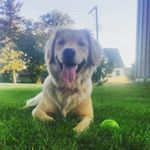puppy: (21, 26, 104, 136)
